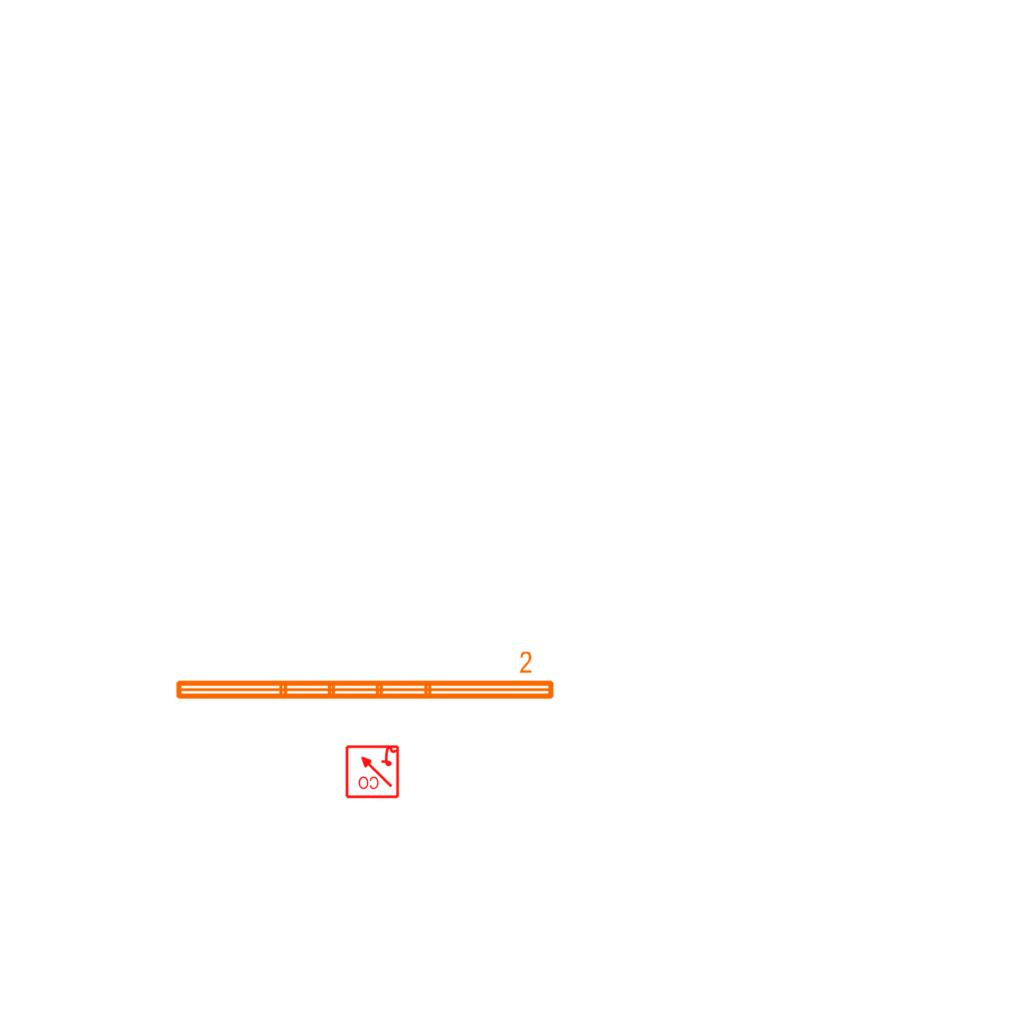Ambulanz_Pendelleuchte_LED: (171, 649, 558, 705)
ROA_Rauchmelder_optisch_mit_Signalgeber_(Sockelsirene): (344, 743, 400, 799)
